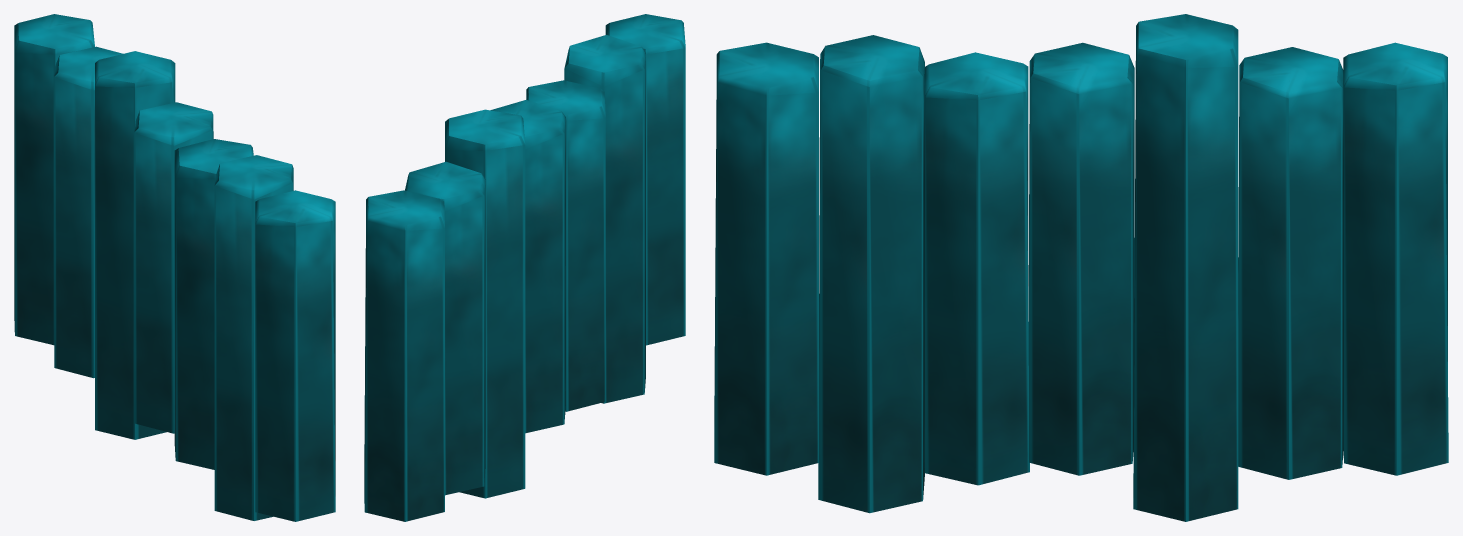
Rendered from parede .fbx.
3 views of the same model, side by side, from view 1: azimuth 30°, elevation 25°; view 2: azimuth 150°, elevation 25°; view 3: azimuth 270°, elevation 25° (orthographic). The views are drawn at different scales.
Visible parts, largest first — view 1: parede 2; view 2: parede 2; view 3: parede 2.
Boxes of the visible parts, bbox=[...] form: parede 2: bbox=[14, 14, 335, 521]; parede 2: bbox=[364, 14, 685, 521]; parede 2: bbox=[714, 14, 1448, 521].
Size of the model in its own units: 57.14 by 241 by 346.
1 material, 1 textured.
